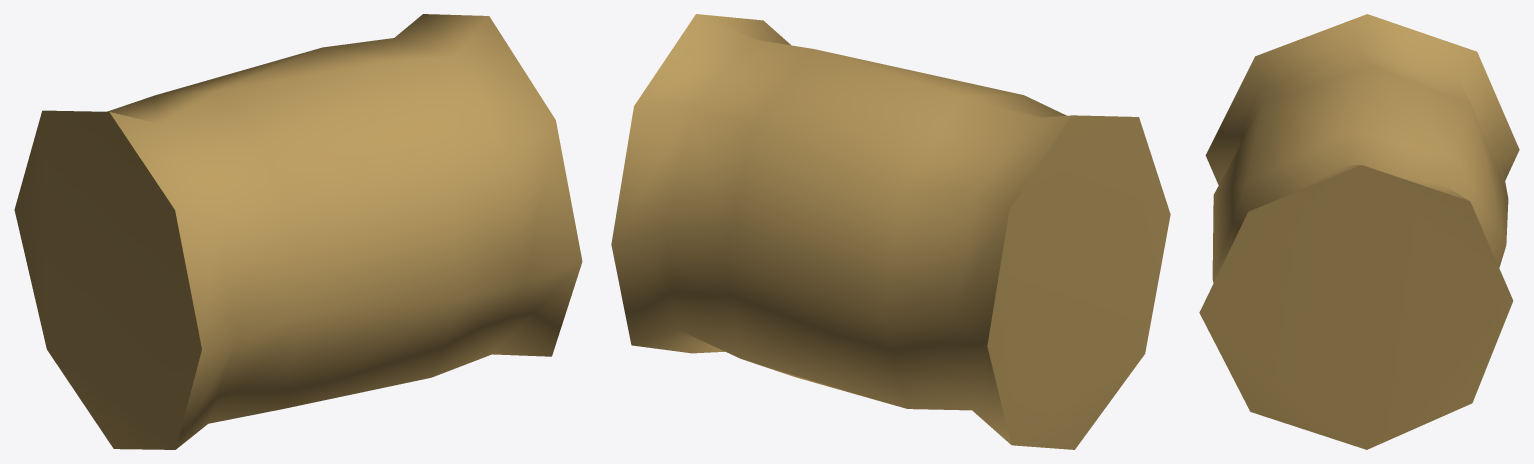
The model's file is HayBale.fbx.
3 renders of one model, left to right at view 1: azimuth 30°, elevation 25°; view 2: azimuth 150°, elevation 25°; view 3: azimuth 270°, elevation 25°, orthographic. The views are drawn at different scales.
Visible parts, largest first — view 1: HayBale; view 2: HayBale; view 3: HayBale.
Part boxes in pixels (left/top/right/bottom): HayBale: left=14, top=14, right=582, bottom=449; HayBale: left=611, top=14, right=1170, bottom=449; HayBale: left=1199, top=14, right=1519, bottom=449.
Size of the model in its own units: 4.79 by 4.08 by 4.08.
